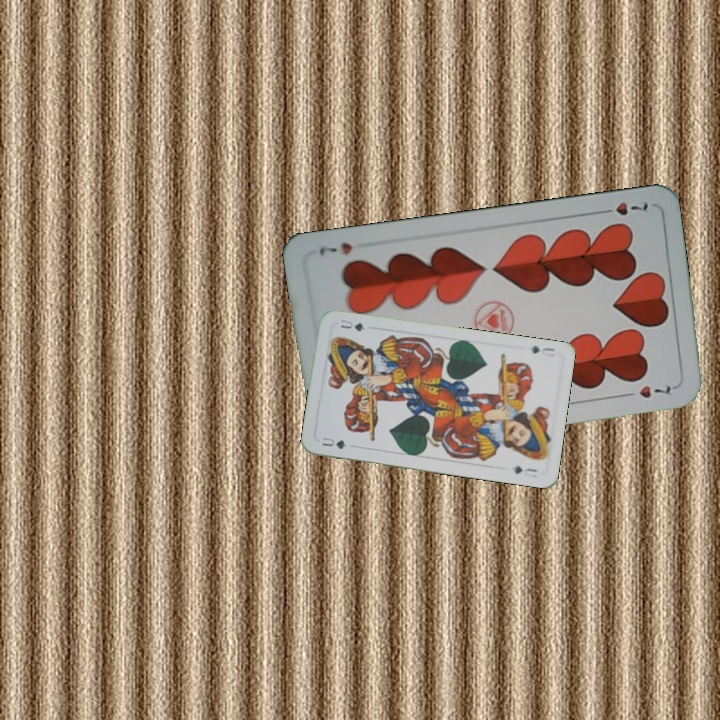GU: (318, 433, 349, 452), (527, 341, 557, 359)
H7: (594, 197, 650, 218)
